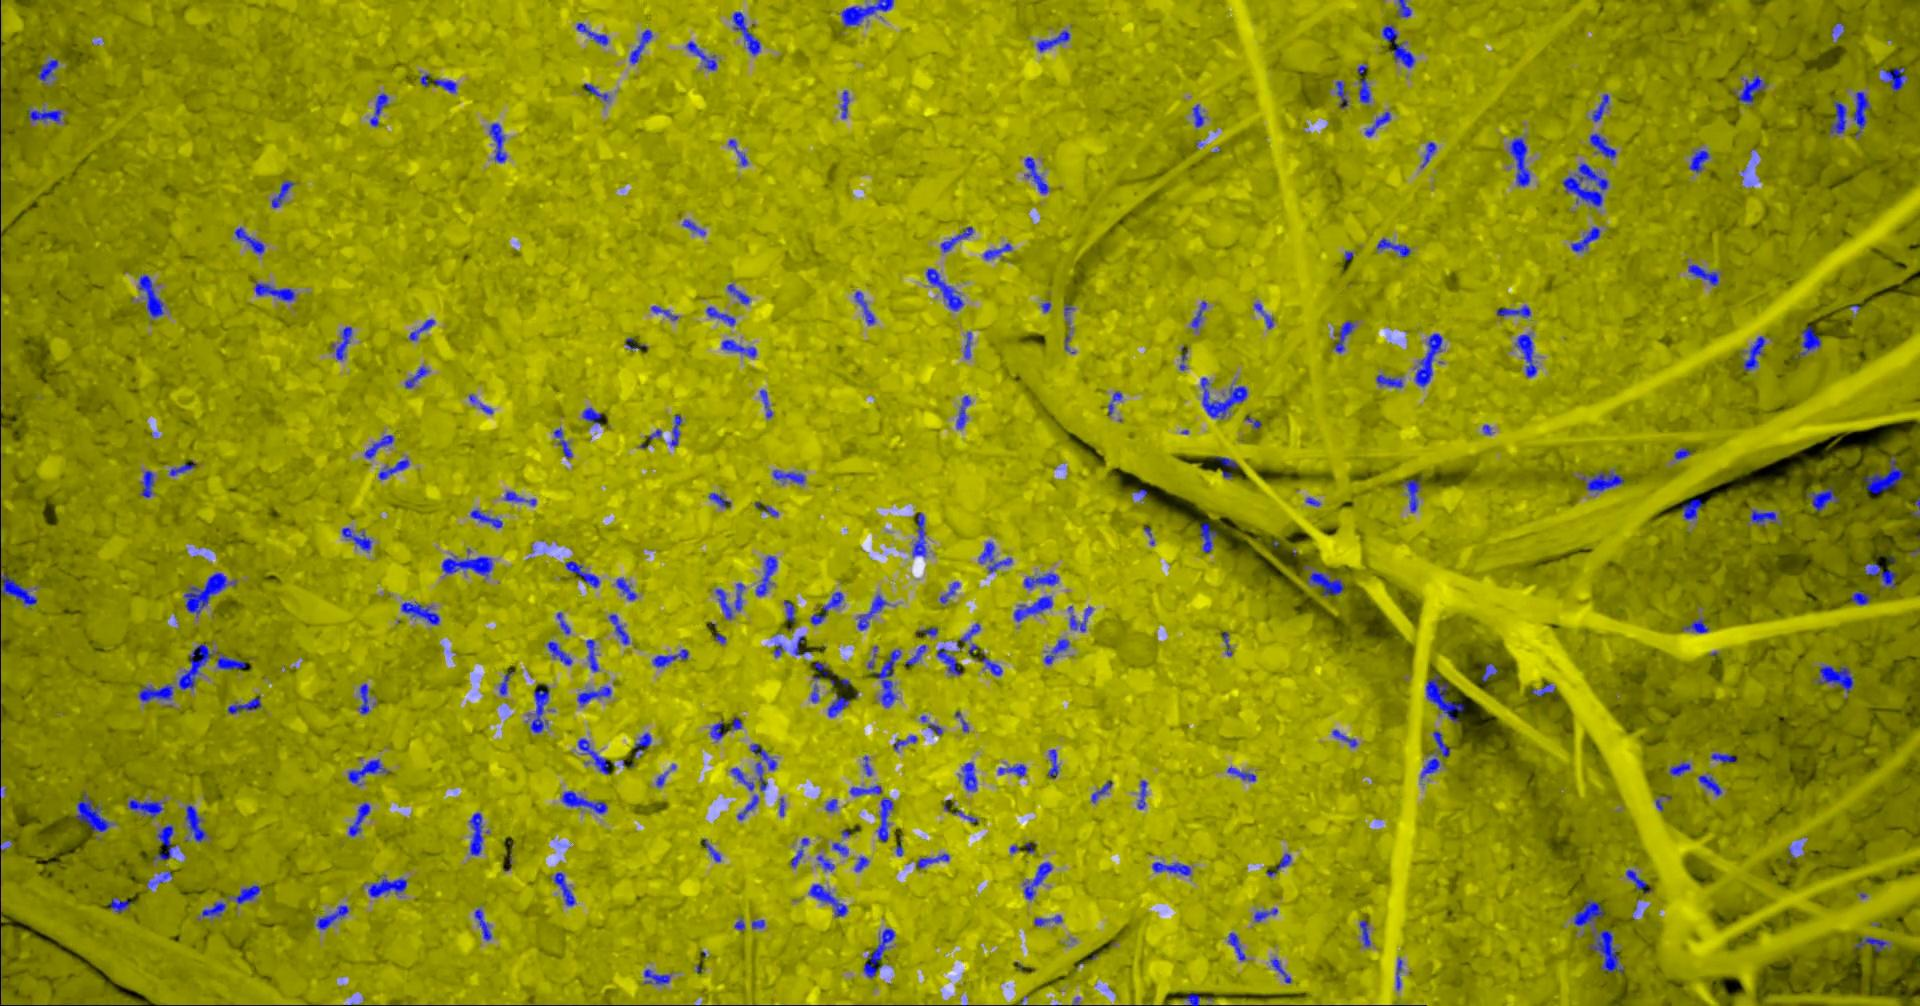ant: (183, 572, 235, 616), (1561, 163, 1608, 206), (1200, 377, 1247, 418), (1425, 673, 1463, 723), (871, 649, 900, 708), (1863, 455, 1905, 494), (924, 268, 963, 310), (178, 643, 212, 688), (1415, 332, 1443, 386), (1589, 929, 1623, 973), (863, 929, 894, 977), (74, 793, 112, 831), (1382, 24, 1415, 67), (841, 0, 893, 25), (577, 738, 613, 774), (808, 883, 847, 916), (731, 11, 759, 55), (0, 573, 36, 605), (137, 274, 163, 318), (857, 594, 888, 630), (715, 582, 744, 619), (1022, 862, 1051, 899), (347, 758, 389, 784), (810, 591, 842, 624), (1509, 137, 1530, 185), (530, 683, 551, 732), (1013, 594, 1051, 621), (561, 790, 606, 813), (978, 541, 1011, 572), (1817, 664, 1853, 692), (441, 556, 491, 575), (564, 560, 599, 587), (1515, 334, 1537, 377), (686, 39, 716, 70), (400, 601, 439, 624), (1023, 156, 1048, 193), (234, 226, 264, 254), (1863, 561, 1895, 588), (1307, 572, 1343, 594), (940, 226, 973, 251), (756, 555, 776, 596), (1851, 91, 1870, 135), (469, 812, 488, 855), (1741, 335, 1764, 371), (152, 824, 175, 860), (367, 876, 406, 897), (1804, 486, 1837, 511), (629, 29, 651, 64), (552, 871, 575, 906), (1737, 75, 1766, 102), (254, 282, 295, 301), (1585, 471, 1623, 492), (1573, 899, 1604, 925), (316, 904, 348, 929), (185, 804, 206, 841), (1570, 226, 1599, 251), (342, 527, 371, 553), (348, 801, 370, 836), (876, 796, 893, 841), (127, 798, 163, 818), (749, 743, 776, 770), (936, 647, 961, 674), (651, 648, 688, 667), (577, 22, 607, 44), (1798, 325, 1821, 356), (577, 686, 611, 706), (1364, 111, 1390, 136), (1043, 638, 1068, 664), (1589, 133, 1617, 158), (364, 434, 392, 459), (1036, 30, 1069, 51), (489, 122, 505, 163), (1401, 479, 1421, 512), (855, 290, 874, 324), (1881, 66, 1906, 91), (1333, 320, 1354, 352), (270, 180, 295, 207), (1377, 238, 1410, 257), (331, 326, 350, 359), (912, 512, 926, 556), (1688, 264, 1718, 285), (608, 614, 629, 644), (546, 641, 571, 666), (370, 91, 387, 126), (721, 339, 756, 357), (975, 652, 1002, 674), (138, 683, 173, 701), (552, 427, 571, 459), (378, 459, 408, 479), (705, 306, 735, 325), (1069, 606, 1092, 631), (1625, 869, 1651, 892), (408, 319, 434, 340), (1270, 956, 1291, 983), (1023, 572, 1058, 588), (1829, 102, 1846, 133), (470, 509, 502, 527), (474, 908, 491, 940), (404, 365, 428, 387), (813, 661, 836, 685), (1150, 861, 1190, 875), (737, 794, 758, 819), (1199, 522, 1217, 553), (790, 837, 808, 868), (957, 762, 977, 790), (827, 694, 850, 716), (227, 697, 262, 713), (730, 767, 753, 790), (1853, 936, 1887, 951), (216, 652, 245, 669), (728, 138, 747, 165), (234, 884, 260, 903), (1227, 932, 1244, 960), (1688, 149, 1709, 171), (615, 577, 636, 600), (37, 58, 57, 83), (726, 283, 750, 304), (1253, 302, 1272, 328), (1680, 498, 1702, 520), (938, 580, 959, 603), (1698, 775, 1721, 795), (1591, 93, 1608, 121), (983, 243, 1011, 259), (956, 395, 970, 428), (503, 492, 536, 506), (916, 854, 949, 868), (643, 968, 670, 984), (1420, 754, 1439, 779), (583, 83, 608, 100), (634, 732, 651, 757), (1191, 300, 1206, 329), (1225, 766, 1255, 781), (772, 469, 804, 483), (1432, 730, 1449, 757), (1091, 781, 1112, 801), (28, 109, 62, 122), (1496, 305, 1530, 318), (168, 460, 196, 475), (1749, 509, 1777, 525), (146, 870, 171, 887), (905, 644, 926, 664), (959, 622, 980, 641), (997, 763, 1026, 777), (650, 305, 677, 320), (702, 838, 720, 861), (585, 639, 598, 671), (1332, 729, 1356, 746), (1335, 80, 1349, 108), (1421, 141, 1436, 166), (682, 218, 705, 235), (1375, 373, 1402, 387), (1107, 391, 1123, 415), (201, 901, 225, 916), (582, 406, 601, 426), (669, 414, 681, 446), (709, 720, 728, 739), (792, 635, 810, 655), (759, 389, 772, 417), (1683, 619, 1708, 633), (498, 671, 513, 694), (1211, 455, 1238, 467), (140, 470, 152, 497), (109, 895, 130, 912), (358, 683, 370, 713), (709, 492, 730, 507), (850, 785, 881, 795), (433, 77, 456, 91), (893, 735, 916, 749), (756, 762, 767, 790), (1034, 915, 1062, 926), (1359, 920, 1370, 948), (1481, 662, 1497, 681), (1357, 77, 1370, 102), (1253, 908, 1277, 921), (556, 612, 570, 634), (1669, 761, 1690, 775), (1048, 749, 1058, 779), (817, 855, 834, 871), (1850, 589, 1869, 605), (1531, 683, 1554, 696), (1710, 752, 1736, 763), (1191, 103, 1203, 127), (783, 600, 795, 622), (1396, 0, 1411, 17), (841, 90, 850, 118), (1137, 780, 1145, 808), (1222, 631, 1232, 655), (963, 332, 971, 358), (1276, 854, 1290, 870), (1182, 992, 1200, 1005), (1672, 447, 1691, 459), (1178, 345, 1187, 370), (855, 856, 869, 871), (832, 842, 848, 855), (1396, 958, 1402, 989), (729, 716, 742, 730), (825, 798, 837, 810), (750, 920, 764, 929)
